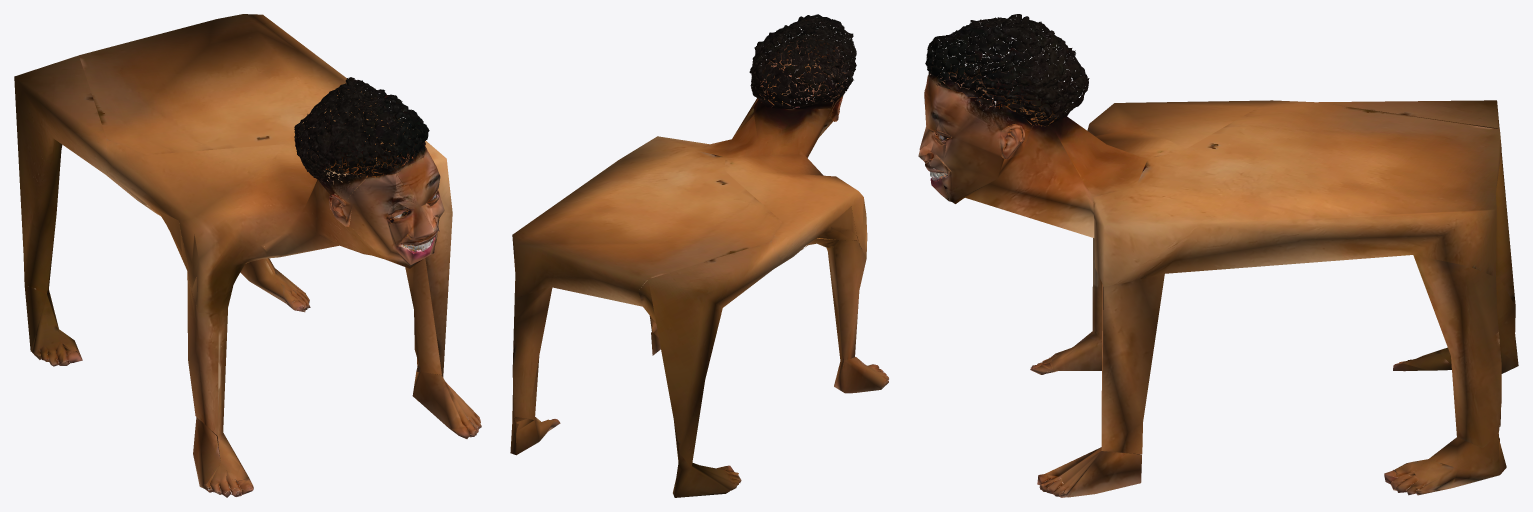
File: mensa-PdlKH44N.glb
The picture shows the model from 3 angles, left to right: view 1: azimuth 30°, elevation 25°; view 2: azimuth 150°, elevation 25°; view 3: azimuth 270°, elevation 25°; orthographic projection. The views are drawn at different scales.
Parts seen in each view (by area): view 1: model_model_0; view 2: model_model_0; view 3: model_model_0.
Part boxes in pixels (x1,y1,x2,y2): model_model_0: (14,14,481,497); model_model_0: (510,14,888,497); model_model_0: (918,14,1518,497).
Bounding box in the file's own units: 1.04 × 1.42 × 1.9.
Materials: 1 (1 with a texture image).
